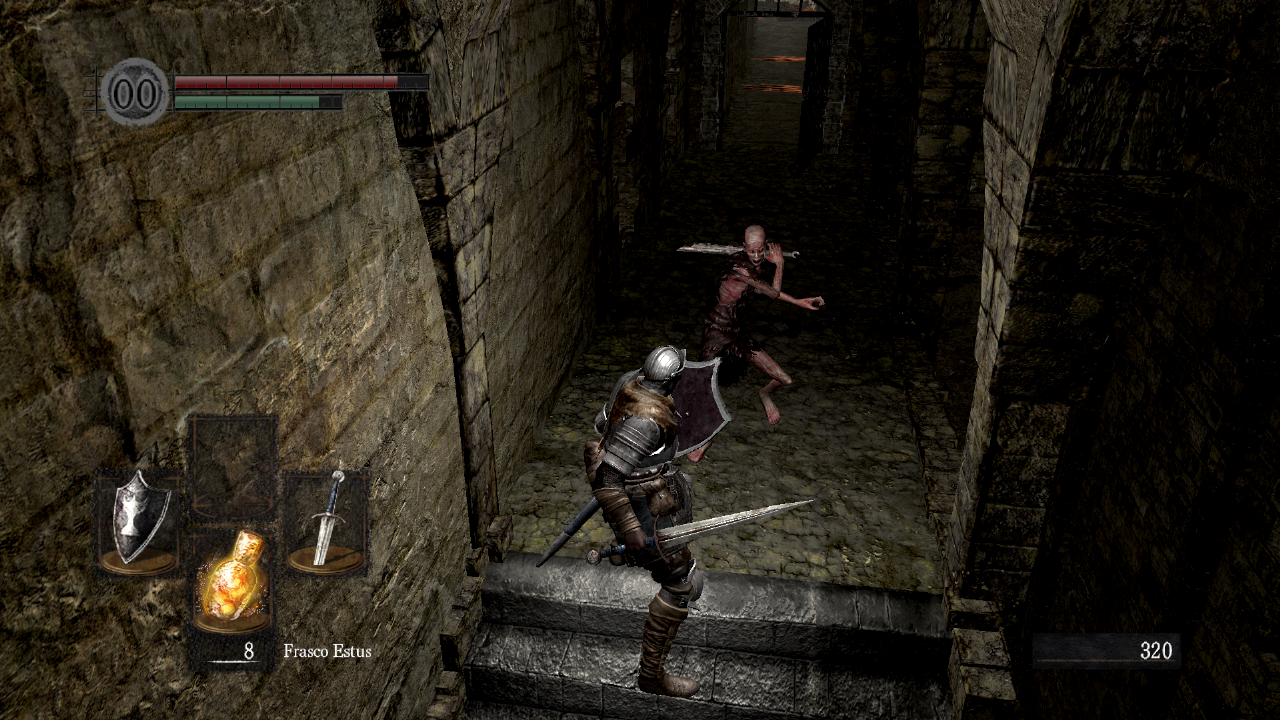hollow: (676, 225, 824, 463)
player: (535, 345, 816, 698)
